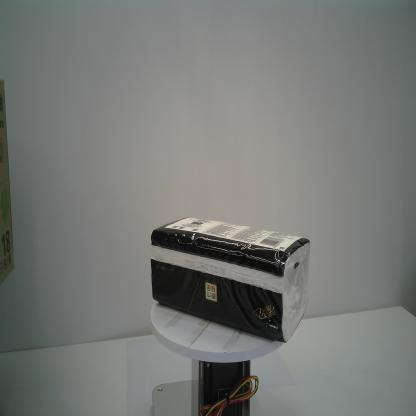Tissue: (148, 215, 310, 346)
